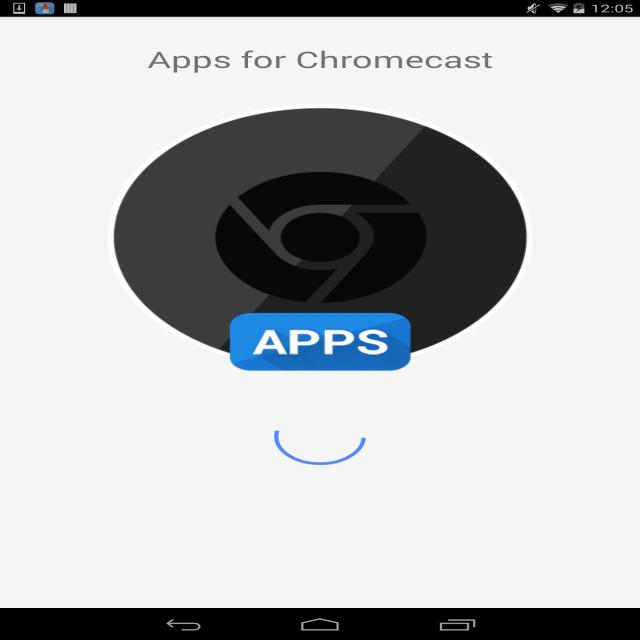image: (116, 107, 529, 369)
text: (149, 51, 498, 74)
